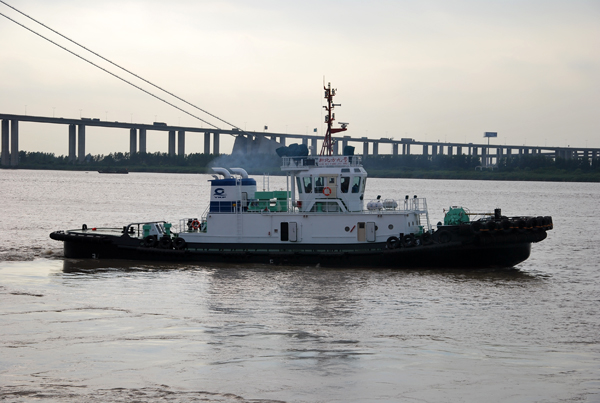otherboat: (47, 83, 557, 273)
